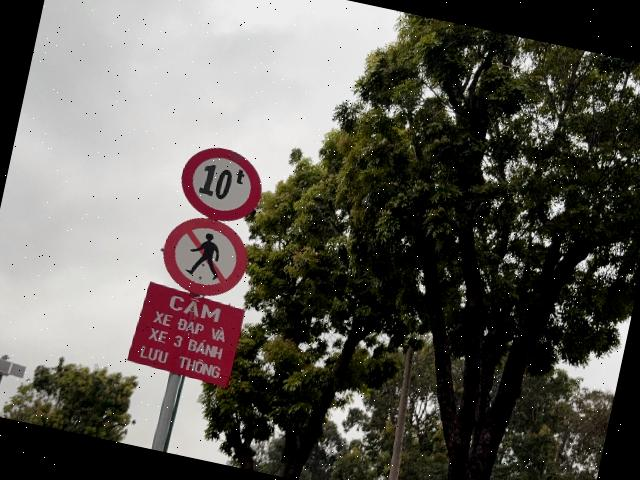cam-nguoi-di-bo: (155, 210, 254, 303)
han-che-trong-luong-xe: (174, 140, 268, 228)
